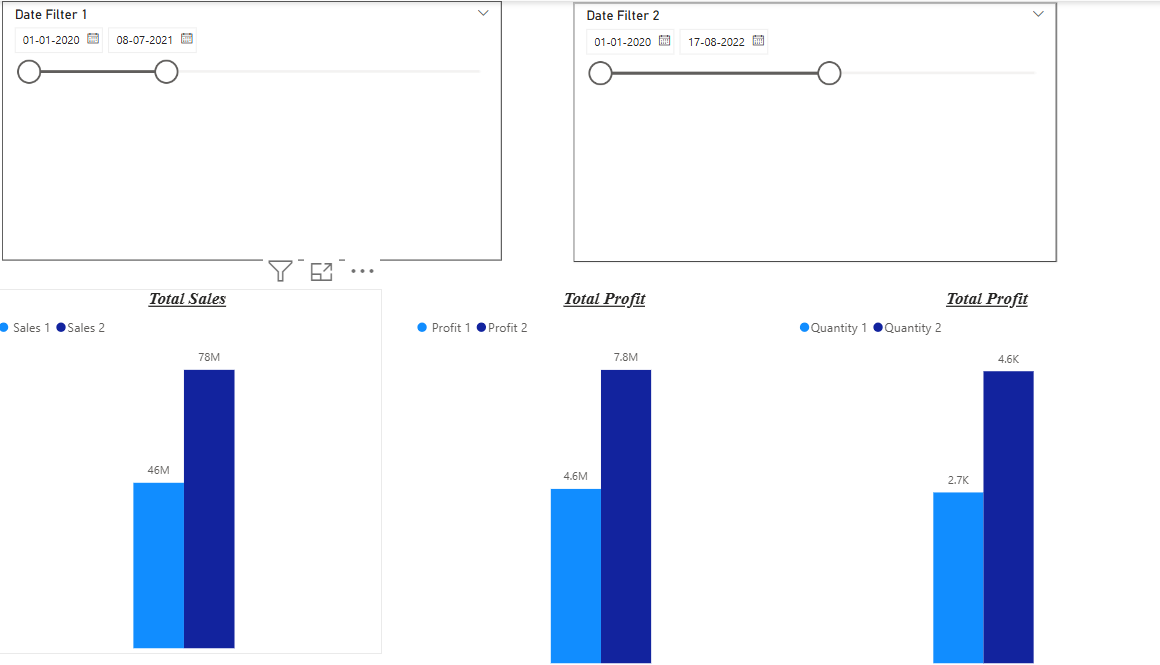

What the dashboard file says about the page in this screenshot:
{"tool":"powerbi","page":{"name":"Requirement 4","canvas":[1280,720],"ordinal":2},"visuals":[{"type":"slicer","fields":{"Values":["Date Table 1.Date"]},"box":[9.7,0,539.2,280.1],"z":0},{"type":"slicer","fields":{"Values":["Date Table 2.Date"]},"box":[626.6,1.6,521.4,280.1],"z":1000},{"type":"clusteredColumnChart","title":"Total Sales","fields":{"Y":["Sum(Fact table.Net Sales)","Date Table 1.sum of net sales"]},"box":[0,310.9,419.4,393.5],"z":2000},{"type":"clusteredColumnChart","title":"Total Profit","fields":{"Y":["Sum(Fact table.Profit)","Measure Table.Total Profit"]},"box":[451.8,310.9,416.1,409.7],"z":3000},{"type":"clusteredColumnChart","title":"Total Profit","fields":{"Y":["Sum(Fact table.Units Sold)","Measure Table.Quantity Sold"]},"box":[864.7,310.9,416.1,409.7],"z":4000}]}

Visuals, with their boxes in screenshot pixels (x1, y1, x2, y2), scaled from the page's 1280x720 canvas onto the 1160x665 screenshot:
slicer - Date Table 1.Date: BBox(9, 0, 497, 259)
slicer - Date Table 2.Date: BBox(568, 1, 1040, 260)
"Total Sales" clusteredColumnChart: BBox(0, 287, 380, 651)
"Total Profit" clusteredColumnChart: BBox(409, 287, 787, 664)
"Total Profit" clusteredColumnChart: BBox(784, 287, 1159, 664)
